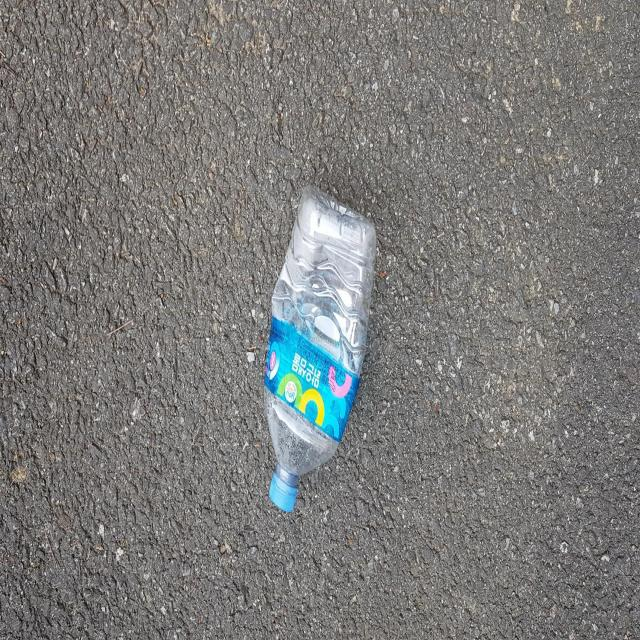plastic: (264, 184, 376, 512)
